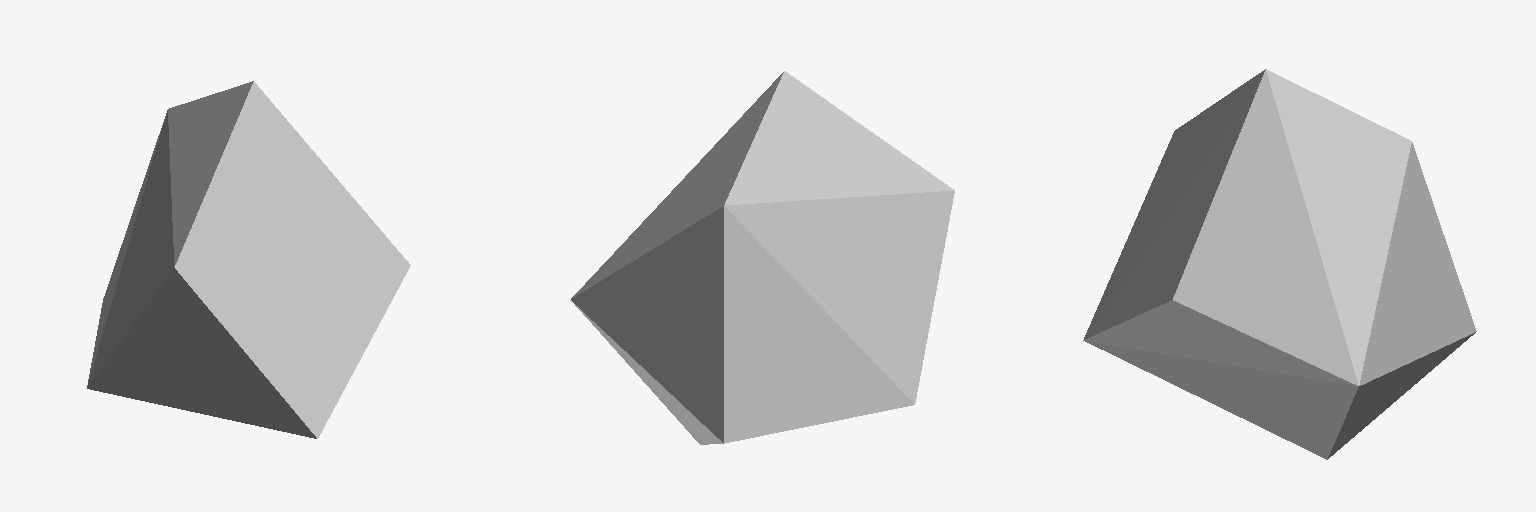
File: Asteroid_Particle.obj
3 renders of one model, left to right at view 1: azimuth 30°, elevation 25°; view 2: azimuth 150°, elevation 25°; view 3: azimuth 270°, elevation 25°, orthographic.
Parts seen in each view (by area): view 1: Asteroid_Particle; view 2: Asteroid_Particle; view 3: Asteroid_Particle.
Boxes of the visible parts, x1=… form: Asteroid_Particle: x1=87, y1=81, x2=410, y2=438; Asteroid_Particle: x1=571, y1=71, x2=954, y2=444; Asteroid_Particle: x1=1083, y1=69, x2=1476, y2=459.
Size of the model in its own units: 0.4359 by 0.4805 by 0.4699.